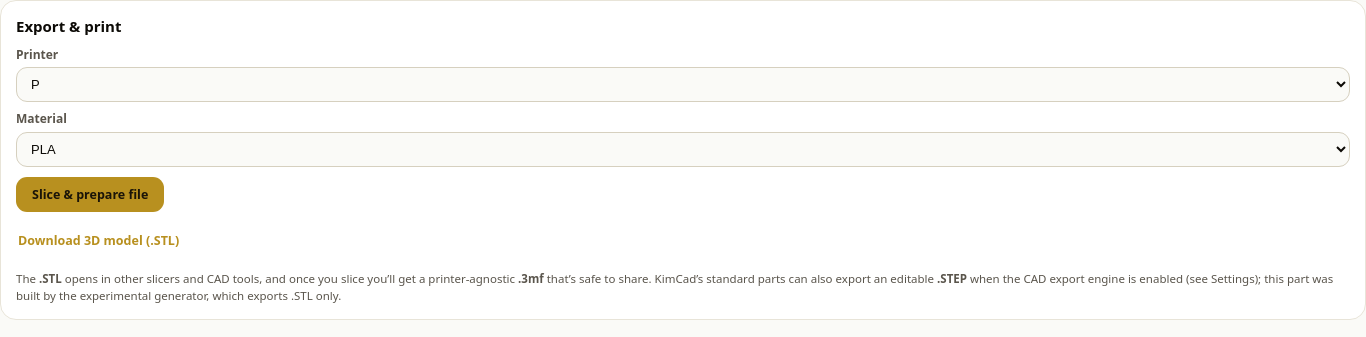
Test: ExportPanel gate-awareness › lets the user cancel an in-flight slice and return to the button — never stuck (escape)
Click the button "Slice & prepare file" at (90, 194), box [16, 176, 164, 212]
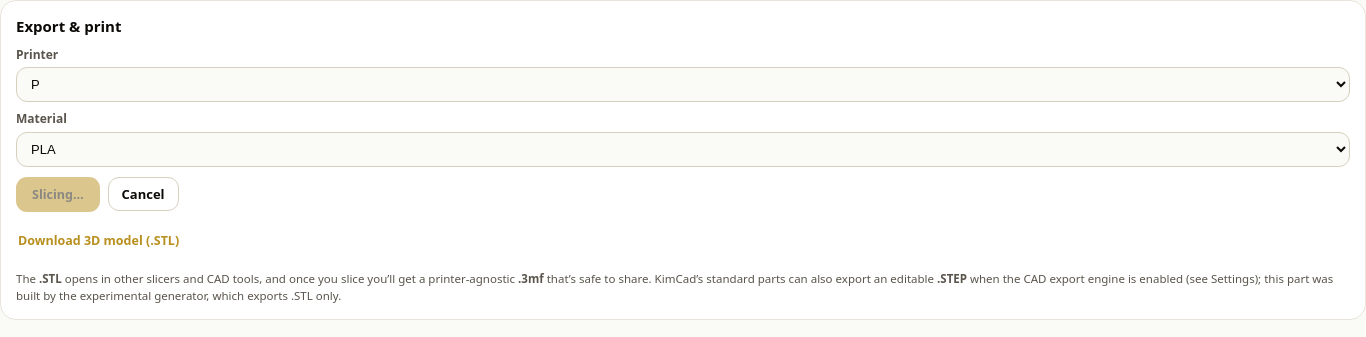
Expected: the button "Cancel" is shown
Expected: the button "Slicing…" is shown, [16, 176, 100, 212]
Click the button "Cancel" at (143, 194), box [108, 177, 179, 211]
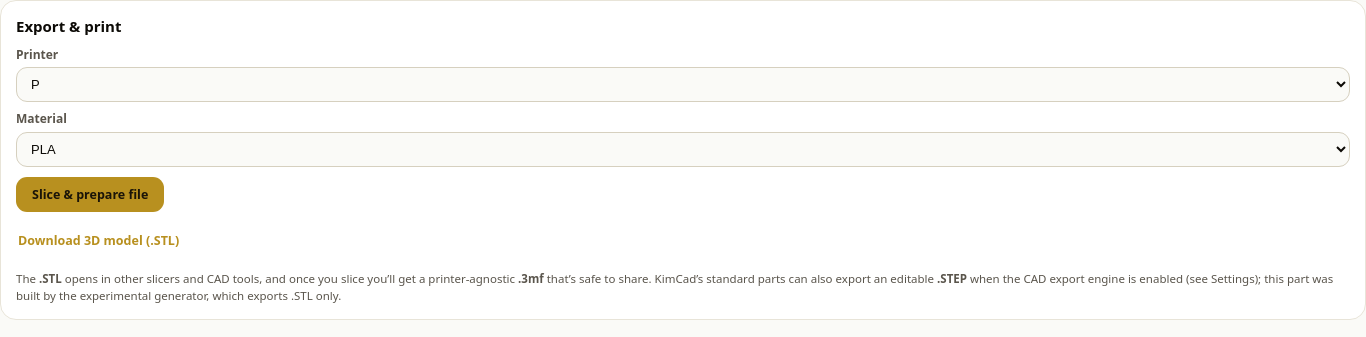
Expected: the button "Slice & prepare file" is shown, [16, 176, 164, 212]
